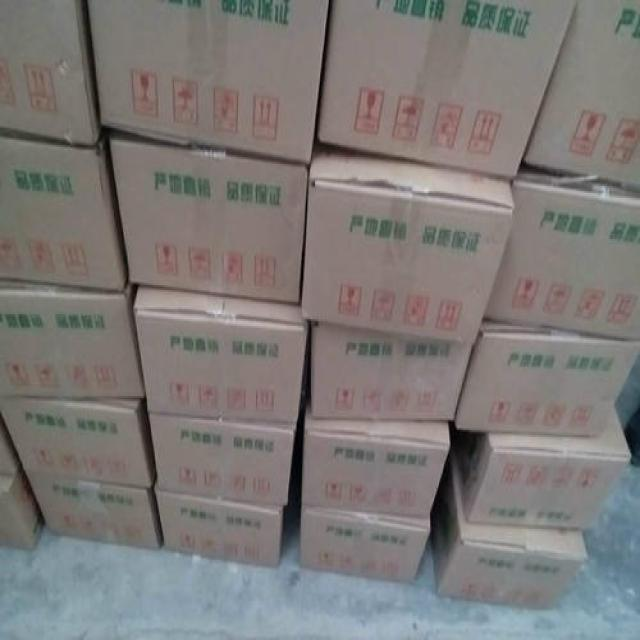box: (319, 0, 577, 181), (301, 150, 516, 343), (90, 0, 330, 164), (109, 137, 308, 304), (485, 172, 639, 338), (133, 287, 307, 428), (430, 464, 589, 613), (525, 0, 640, 191), (454, 321, 639, 439), (458, 403, 631, 527), (0, 138, 131, 290), (0, 285, 146, 399), (303, 408, 451, 519), (310, 326, 472, 420), (0, 0, 101, 143), (0, 398, 154, 490), (150, 415, 294, 509), (301, 505, 430, 584), (156, 488, 283, 568), (31, 481, 163, 550), (0, 469, 44, 553), (0, 416, 23, 474)
